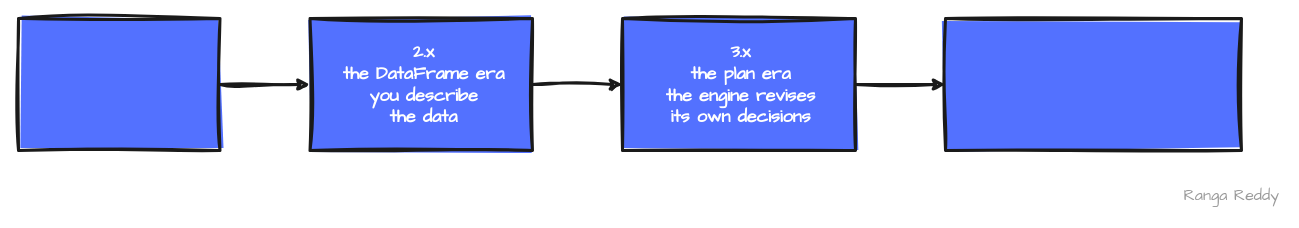
Some shapes in this 1299 by 228 pixel diagram are drawn without their labels. Each missing label, with the box of its shape:
1.x the RDD era you describe the computation: (16, 16, 221, 152)
4.x the protocol era the client is detached from the driver: (944, 16, 1242, 152)
